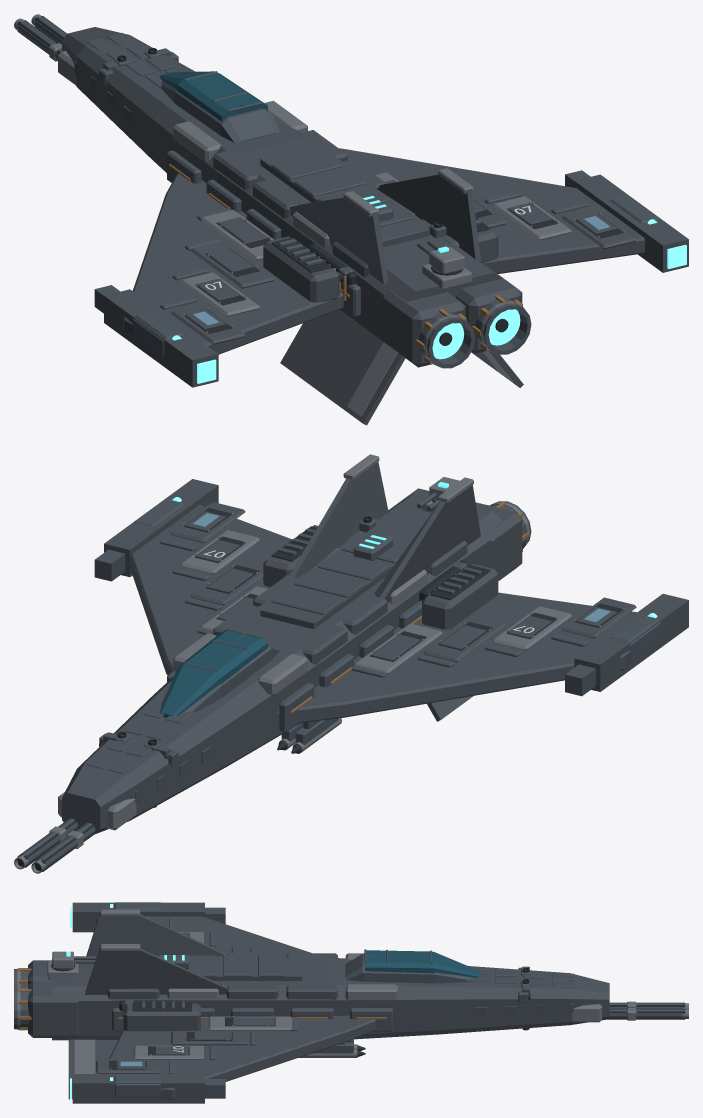
File: interceptor.glb
3 views of the same model, one above another, from view 1: azimuth 30°, elevation 25°; view 2: azimuth 150°, elevation 25°; view 3: azimuth 270°, elevation 25° (orthographic). The views are drawn at different scales.
Parts seen in each view (by area): view 1: FleetHull, mesh_pd_yaw_1; view 2: FleetHull; view 3: FleetHull, mesh_pd_yaw_1.
Boxes of the visible parts, bbox=[...] form: FleetHull: bbox=[14, 14, 688, 425]; mesh_pd_yaw_1: bbox=[429, 246, 464, 274]; FleetHull: bbox=[14, 454, 688, 873]; FleetHull: bbox=[14, 902, 688, 1103]; mesh_pd_yaw_1: bbox=[52, 951, 73, 968].
Size of the model in its own units: 19.58 by 7.17 by 30.63.
